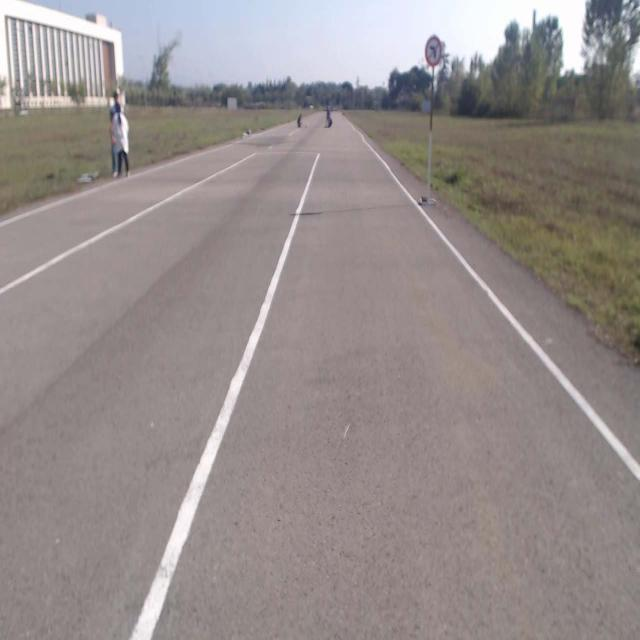soladonulmez: (425, 36, 441, 66)
